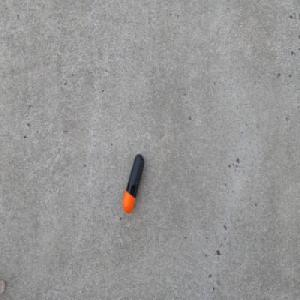PlasticPart: (122, 153, 144, 213)
